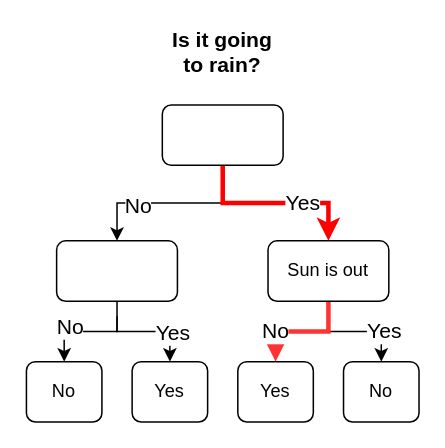
Image size: 445x448. Some labels were removed from this diagram. The shapes that lost their labels are listed below. From the top down, each one's centre as x and y in pixels, then its label:
point (222, 134): Cloudy
point (116, 270): Windy
